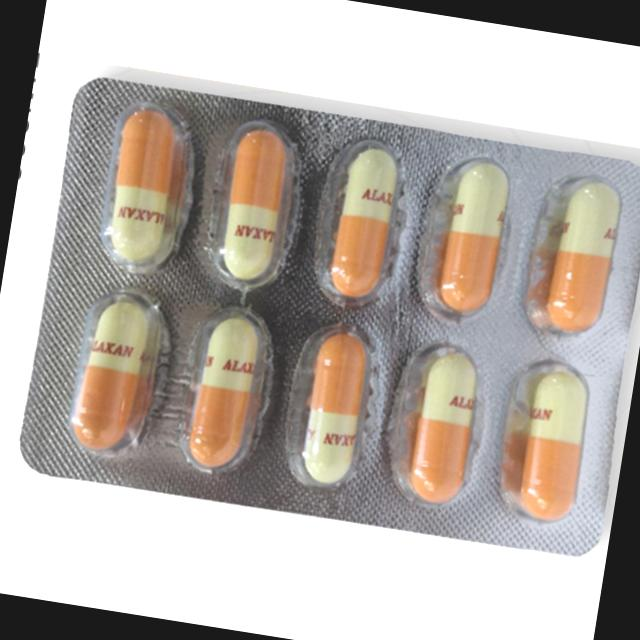blister: (9, 65, 640, 564)
